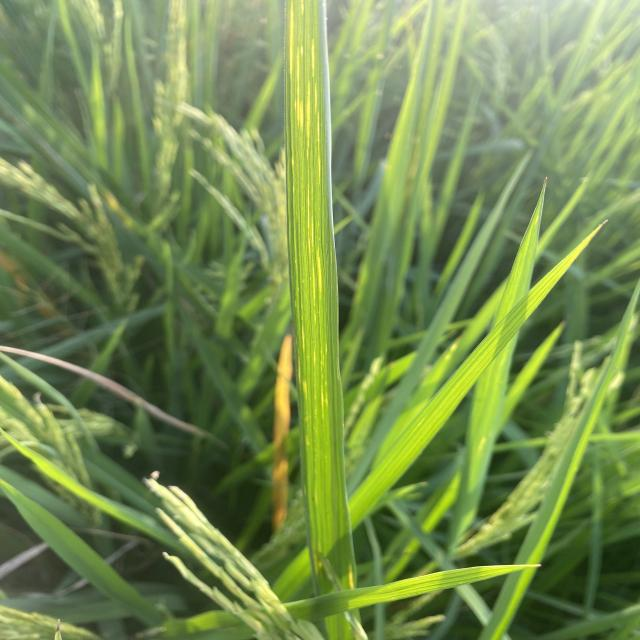Dom soc vi khuan: (316, 247, 323, 298), (312, 259, 316, 306), (307, 183, 310, 232), (311, 215, 314, 253), (303, 380, 308, 399), (302, 326, 305, 353), (308, 237, 311, 259), (313, 348, 316, 364), (314, 311, 316, 326)
